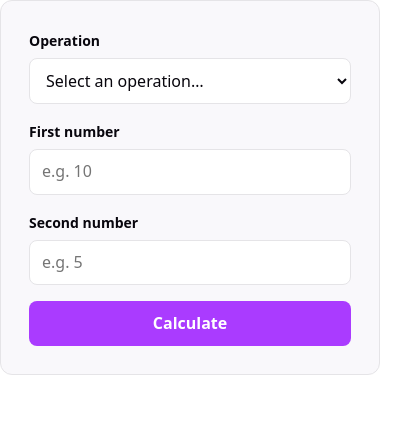
Test: Calculator › shows a validation error when the second number is missing for a binary operation
The width and height of the screenshot is (397, 448).
Select "Add (a + b)" in the dropdown labelled "Operation". click: [190, 81]
box: 29,58 -> 351,104
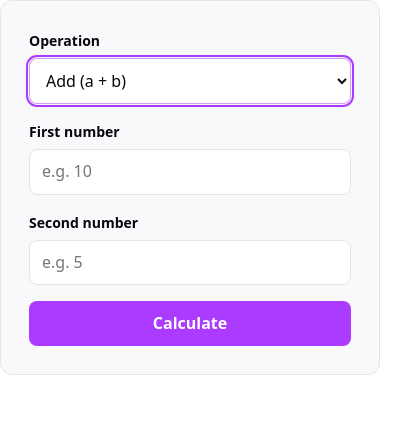
Type "10" into the field labelled "First number". click: [190, 172]
box: 29,149 -> 351,195
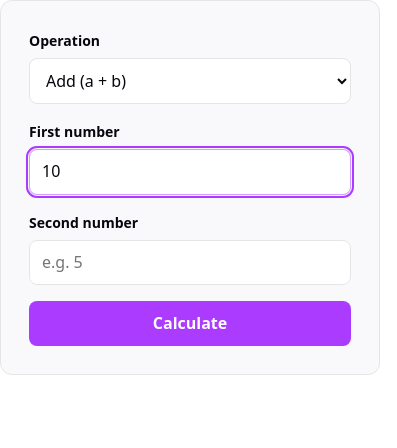
Click the button "Calculate". click: [190, 324]
box: 29,301 -> 351,346
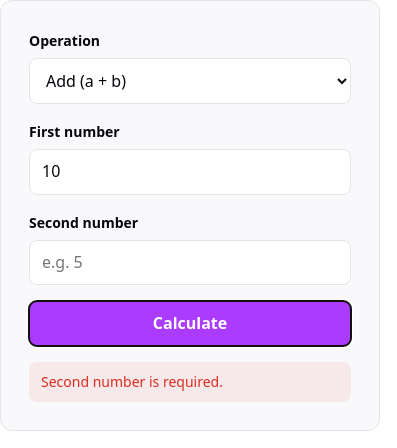
Check: the message reads "Second number is required.", box 41,372 -> 223,391
